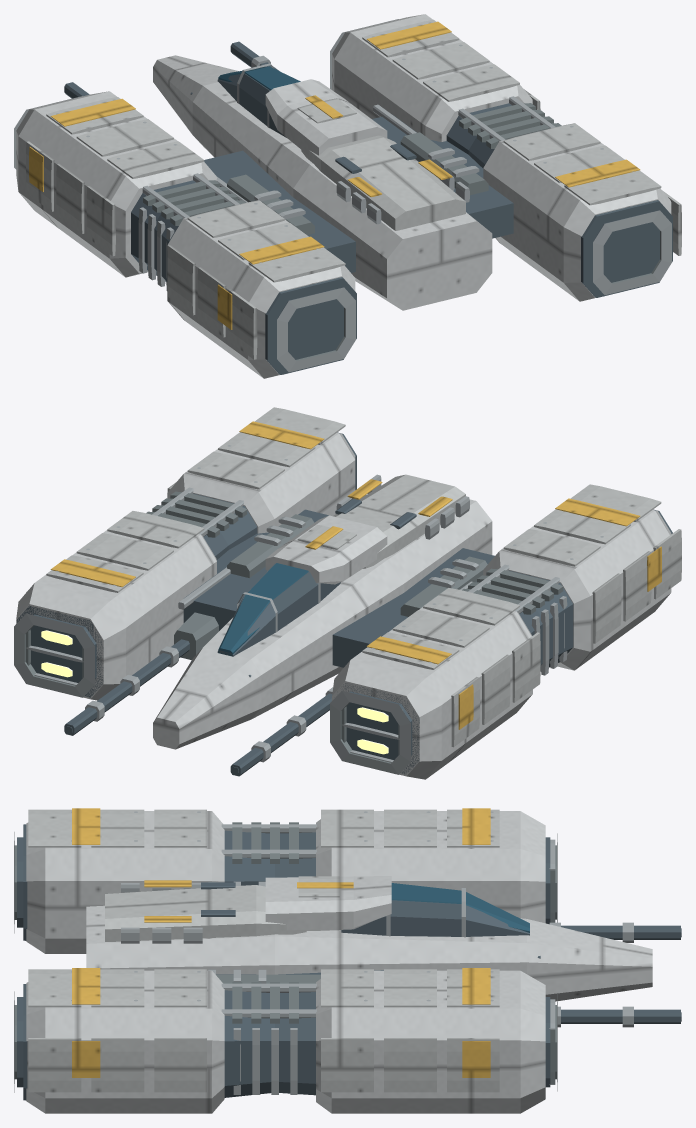
Rendered from bulldog.gltf.
3 renders of one model, top to bottom at view 1: azimuth 30°, elevation 25°; view 2: azimuth 150°, elevation 25°; view 3: azimuth 270°, elevation 25°, orthographic. The views are drawn at different scales.
Parts seen in each view (by area): view 1: bulldog; view 2: bulldog; view 3: bulldog.
Boxes of the visible parts, bbox=[...] form: bulldog: bbox=[14, 14, 681, 378]; bulldog: bbox=[14, 407, 681, 779]; bulldog: bbox=[14, 808, 681, 1113].
Bounding box in the file's own units: 8.19 × 2.28 × 10.61.
8 materials, 3 textured.
